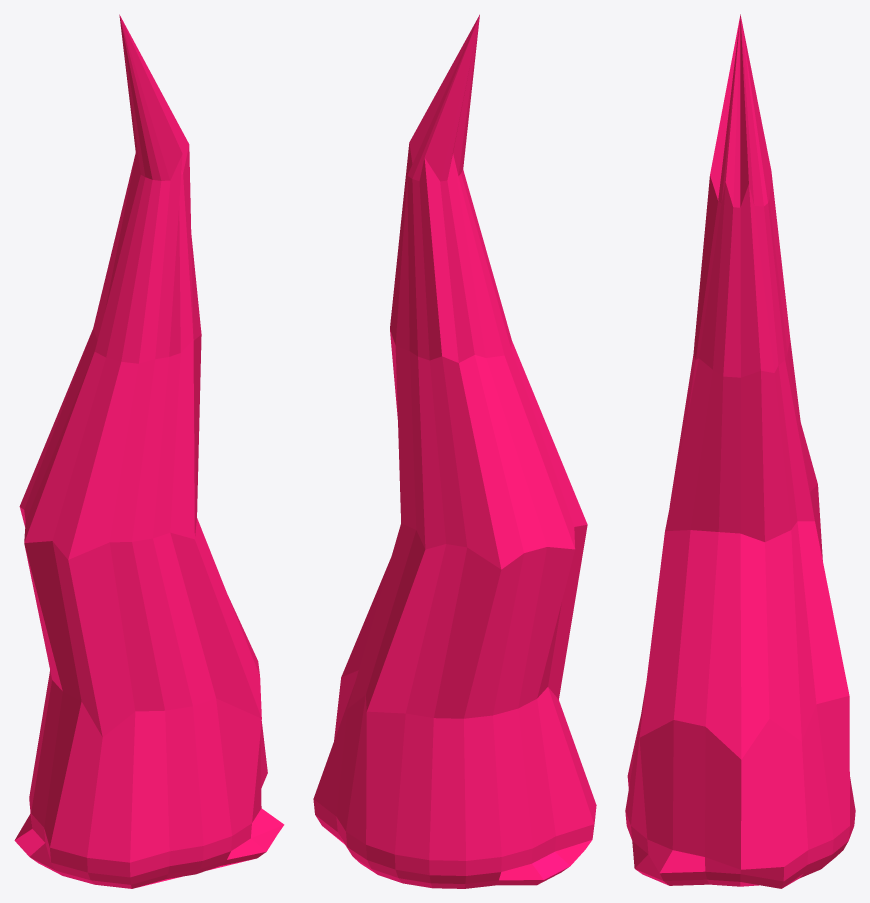
File: spike7.fbx
3 renders of one model, left to right at view 1: azimuth 30°, elevation 25°; view 2: azimuth 150°, elevation 25°; view 3: azimuth 270°, elevation 25°, orthographic. The views are drawn at different scales.
Visible parts, largest first — view 1: pCone9; view 2: pCone9; view 3: pCone9.
Part boxes in pixels (x1,y1,x2,y2): pCone9: (14, 14, 284, 888); pCone9: (313, 14, 596, 888); pCone9: (625, 14, 855, 888).
Bounding box in the file's own units: 46.95 × 153 × 39.03.
